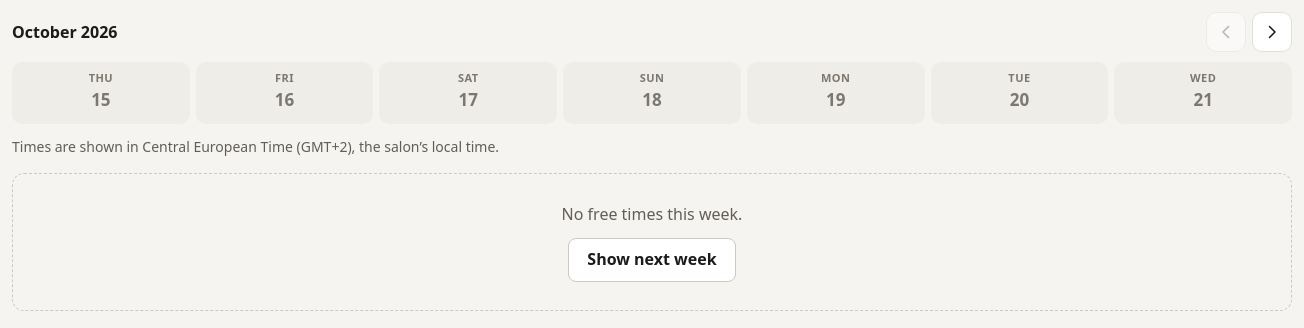
SlotPicker › offers the next week when this one is fully booked
Expected: the text "No free times this week." is shown, [562, 202, 742, 226]
Click the button "Show next week".
click(652, 260)  # box [568, 238, 736, 282]
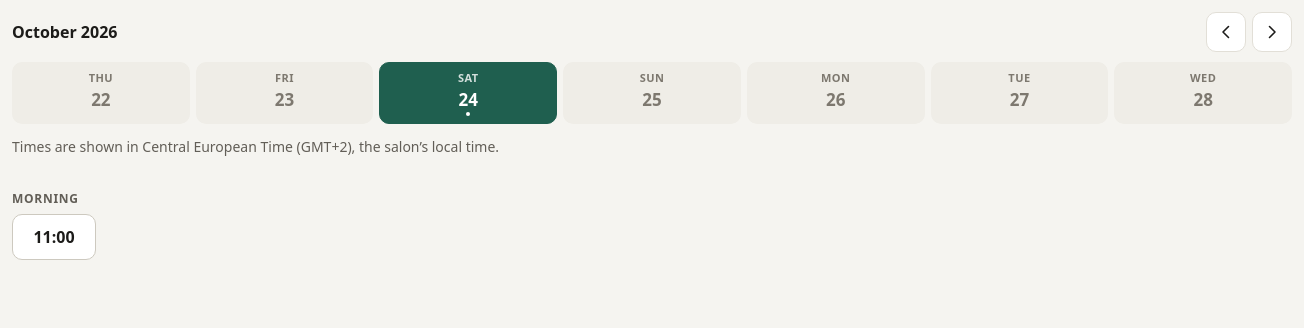
Expected: the button "11:00" is shown, [12, 214, 96, 260]
